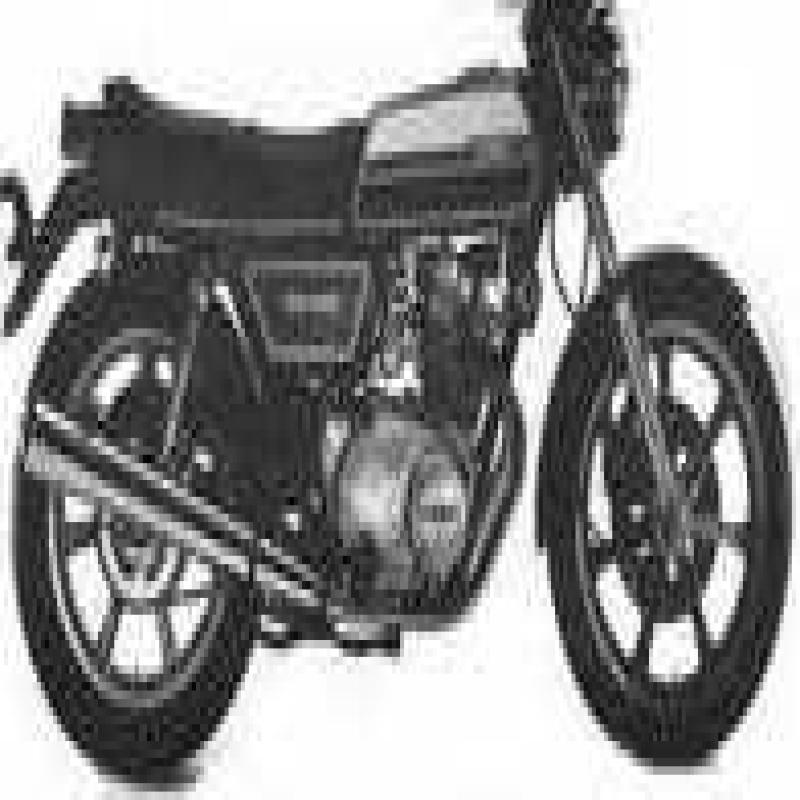bike: (17, 23, 800, 723)
